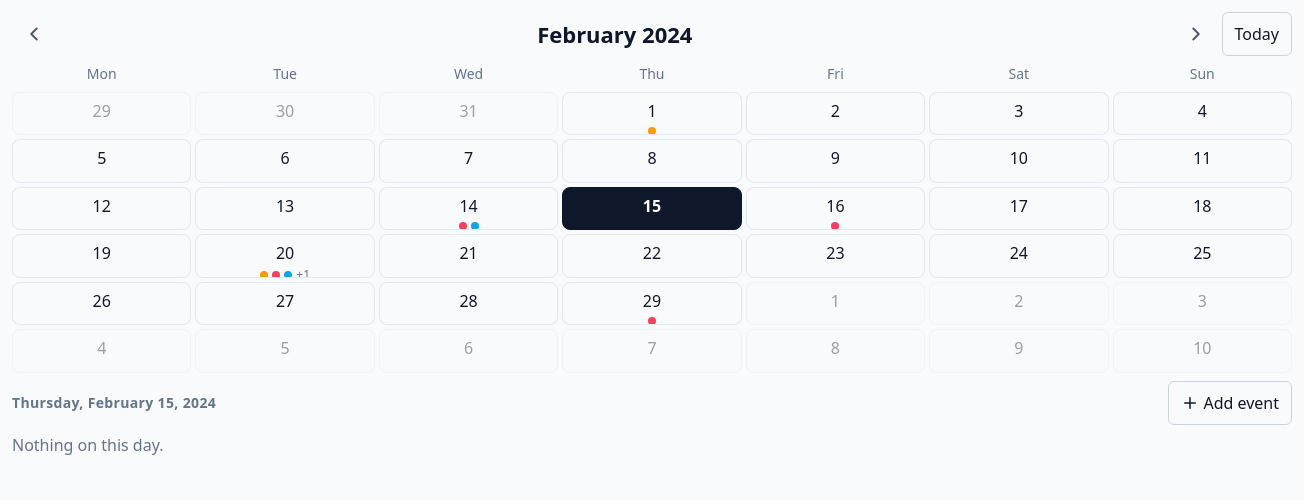
Calendar — items land on the right days › places the leap day and its item
This screenshot has width=1304, height=500.
Expected: the heading "February 2024" is shown, [537,19,692,49]
Click the 2nd button "29".
click(652, 304)  # box [562,282,742,325]
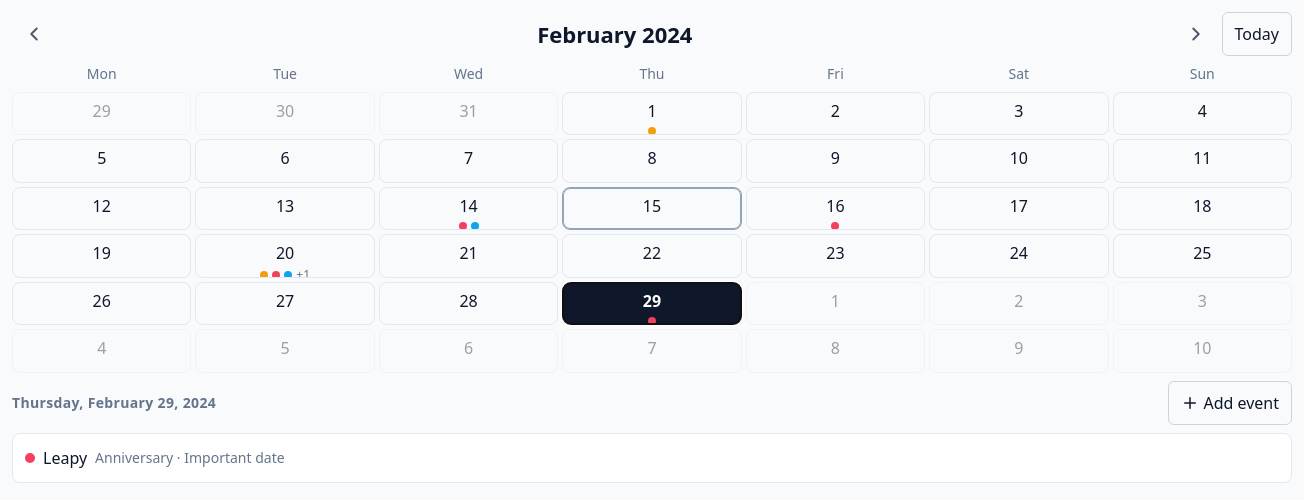
Expected: the link "Leapy Anniversary · Important date" is shown, [12,433,1292,483]
